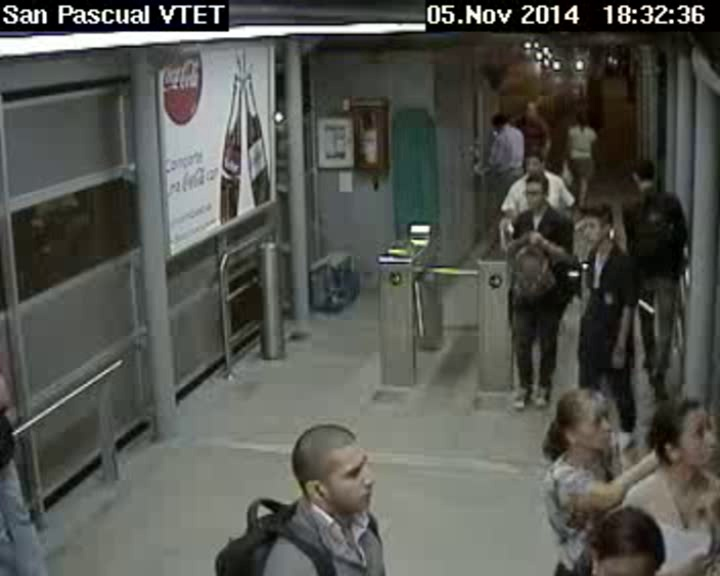person: (288, 416, 383, 522), (582, 503, 678, 575), (650, 388, 720, 485), (546, 386, 612, 454), (579, 200, 619, 248), (524, 175, 552, 213), (624, 163, 660, 190), (522, 147, 546, 176), (486, 109, 510, 130), (572, 110, 589, 127), (524, 99, 538, 118)
